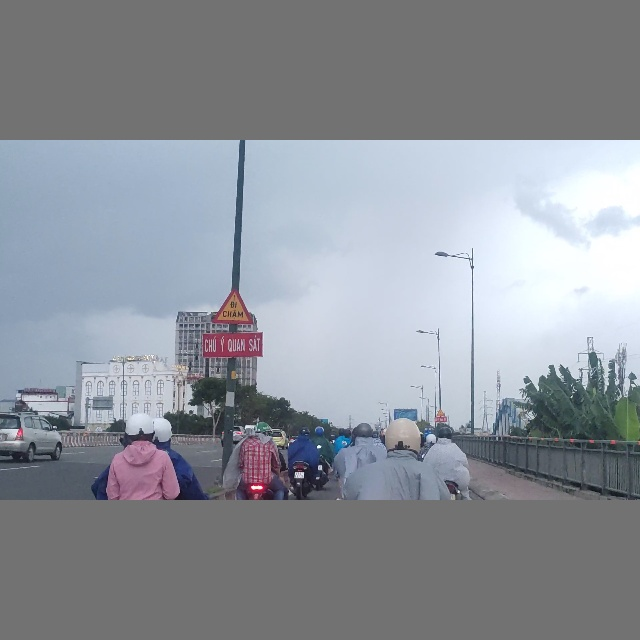W.245a: (211, 286, 254, 324)
